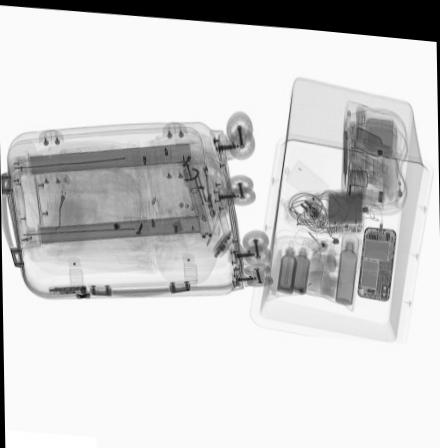Powerbank: (323, 181, 363, 227)
